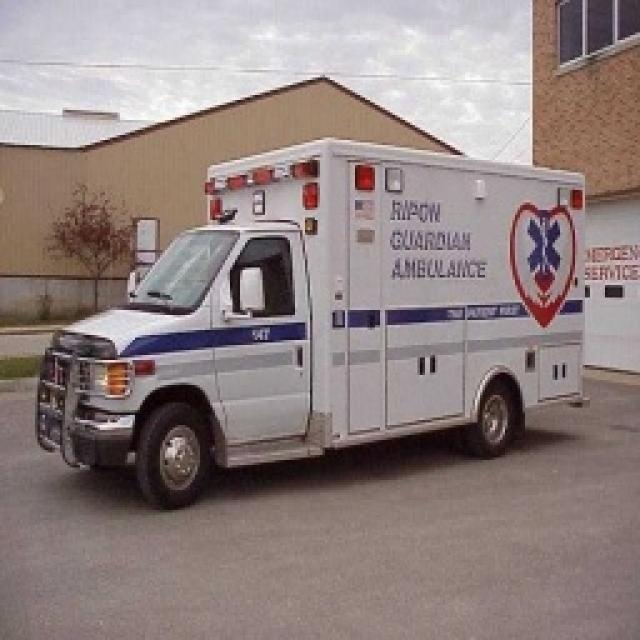ambulance: (35, 140, 585, 508)
